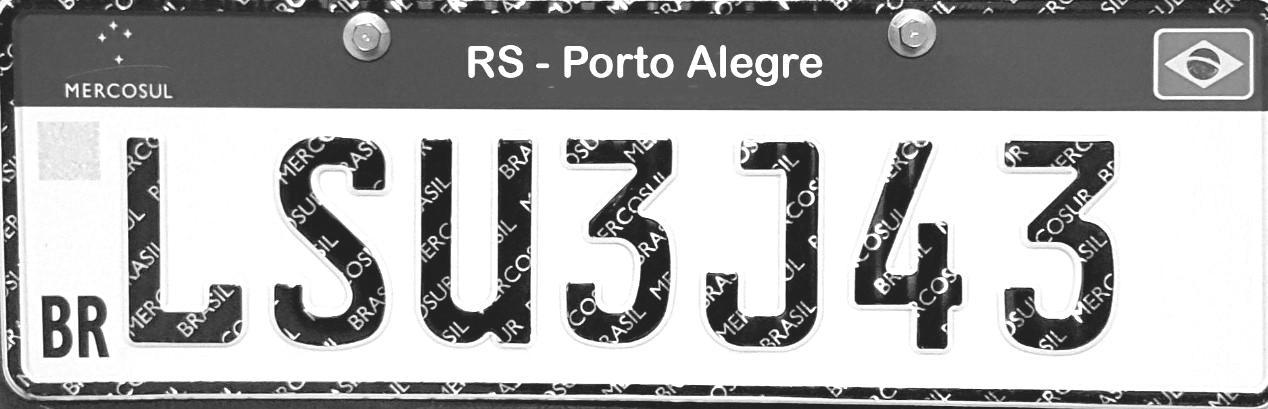placa_mercosul: (0, 6, 1267, 406)
